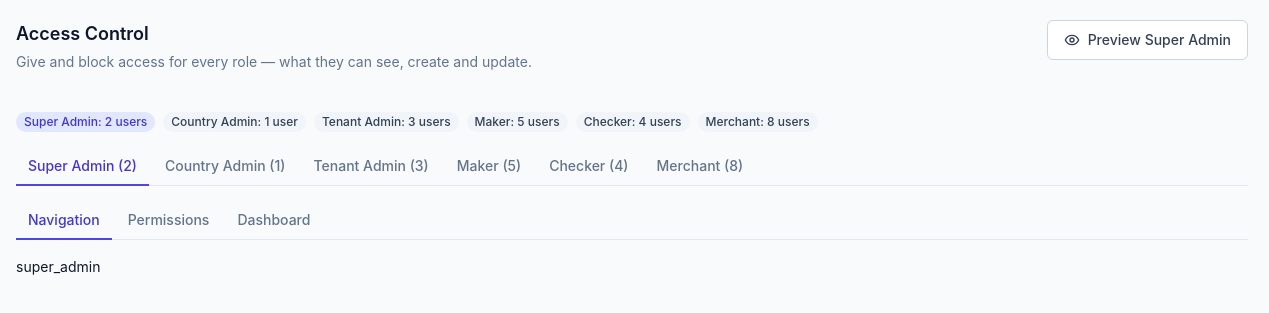
Test case: AccessControlPage — TC-1 › opens the preview modal for the active role
The width and height of the screenshot is (1269, 313).
Click the button "Preview Super Admin": (1147, 40) [1047, 20, 1248, 60]
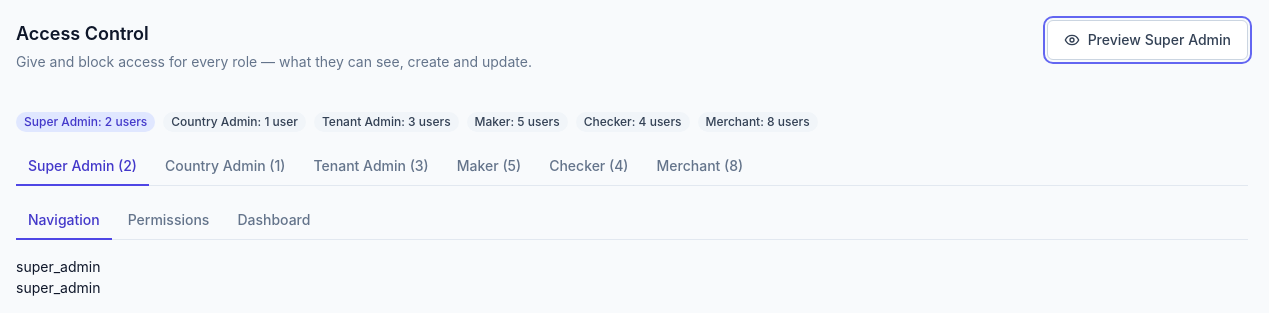
Result: the text with test id "preview-modal" reads "super_admin" at [16, 279, 100, 296]
